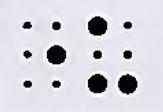dot_5: (22, 20, 66, 88)
ugali: (87, 16, 138, 94)
